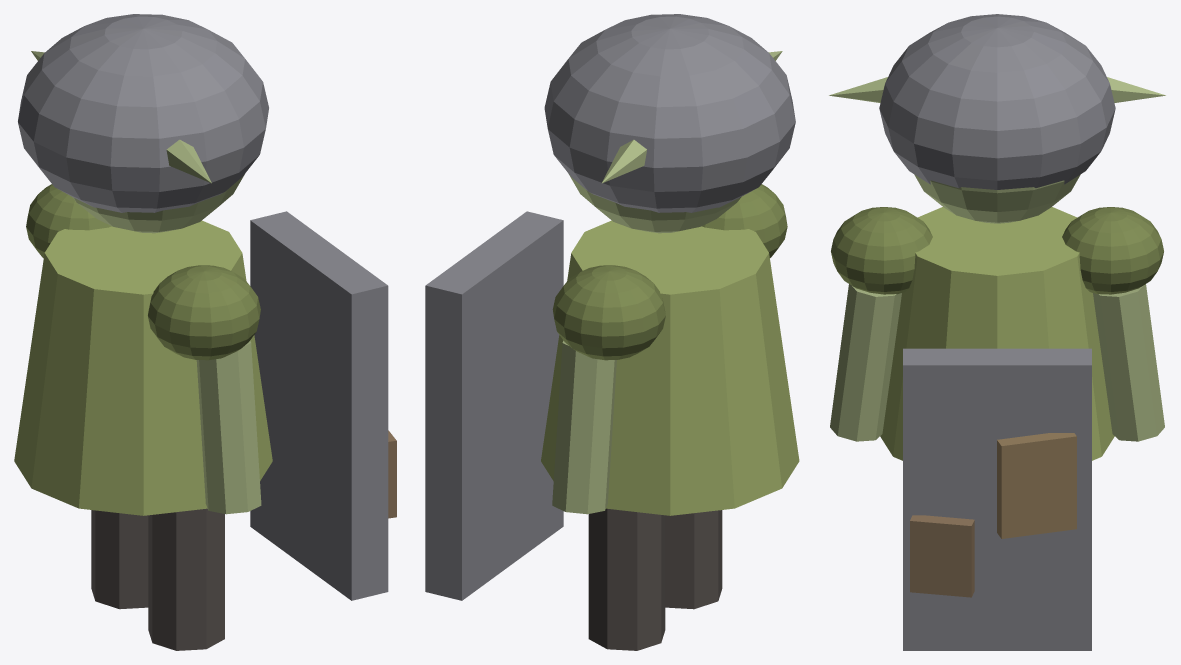
File: hero_gryk_2.glb
The picture shows the model from 3 angles, left to right: view 1: azimuth 30°, elevation 25°; view 2: azimuth 150°, elevation 25°; view 3: azimuth 270°, elevation 25°; orthographic projection. The views are drawn at different scales.
Visible parts, largest first — view 1: figurka; view 2: figurka; view 3: figurka.
Boxes of the visible parts, <box> form: figurka: <box>14,14,396,650</box>; figurka: <box>425,14,799,650</box>; figurka: <box>829,14,1165,650</box>.
Size of the model in its own units: 0.4573 by 0.7685 by 0.4295.
